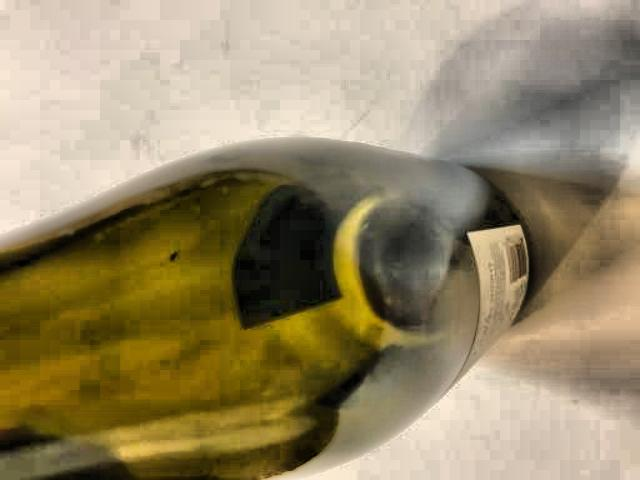Bottles: (0, 94, 565, 475)
